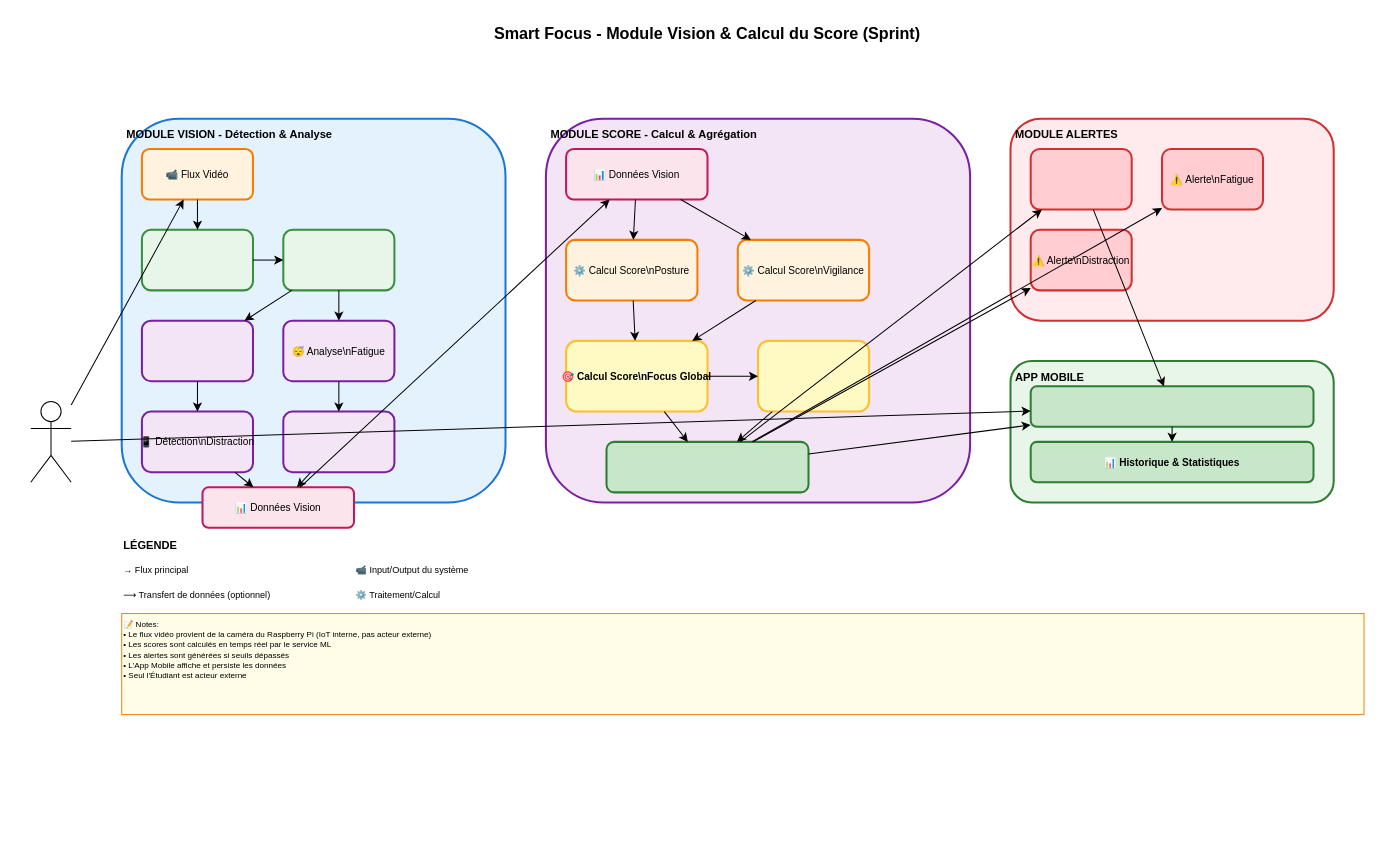
Image size: 1383x865. Some labels were removed from this diagram. The shapes that lost their labels are listed below. From the top down, each one's centre as x and y in pixels, then its label:
pixel 1080 178: ⚠️ Alerte\nPosture
pixel 197 259: 🔍 Détection\nVisage
pixel 338 259: 📍 Points de\nRéférence
pixel 197 350: 🧍 Analyse\nPosture
pixel 813 375: 📈 Score\nComposite
pixel 1171 406: 📱 Visualisation Temps Réel
pixel 50 441: 👤 Étudiant
pixel 338 441: 😰 Détection\nStress
pixel 707 466: ✅ Scores Finaux
